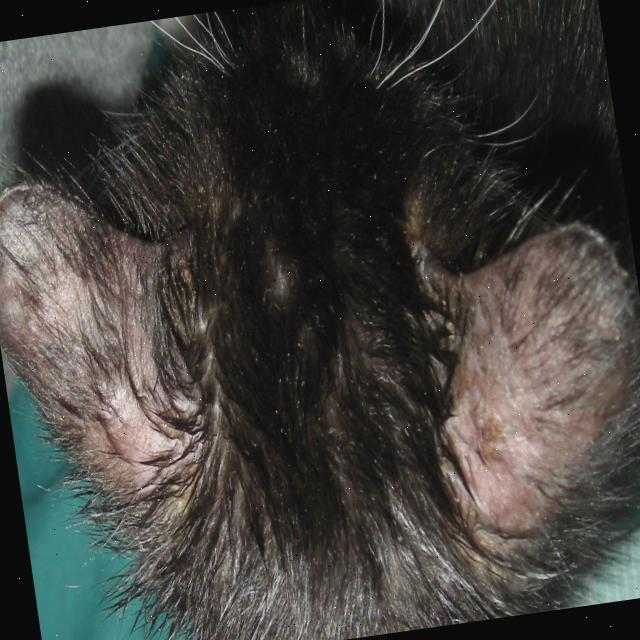cat-hairloss: (0, 146, 213, 531), (420, 219, 640, 551)
